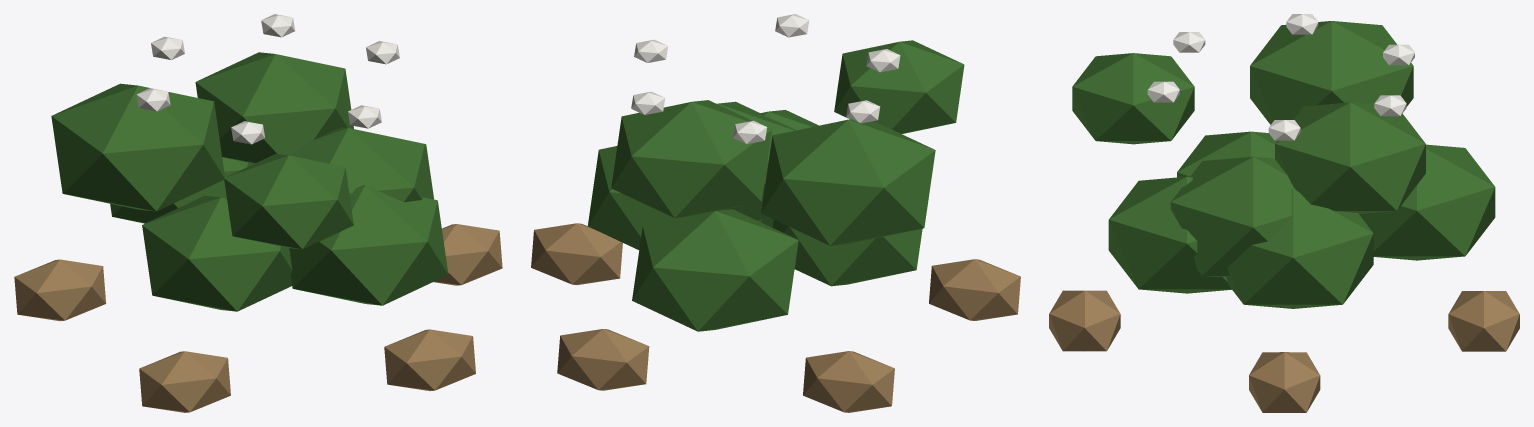
The model's file is ekin_patates.glb.
3 views of the same model, side by side, from view 1: azimuth 30°, elevation 25°; view 2: azimuth 150°, elevation 25°; view 3: azimuth 270°, elevation 25° (orthographic).
Visible parts, largest first — view 1: Cali; view 2: Cali; view 3: Cali.
Boxes of the visible parts, left/top/right/bottom form: Cali: left=14, top=14, right=502, bottom=412; Cali: left=531, top=14, right=1020, bottom=412; Cali: left=1049, top=14, right=1519, bottom=412.
Bounding box in the file's own units: 0.2275 × 0.1354 × 0.2243.
